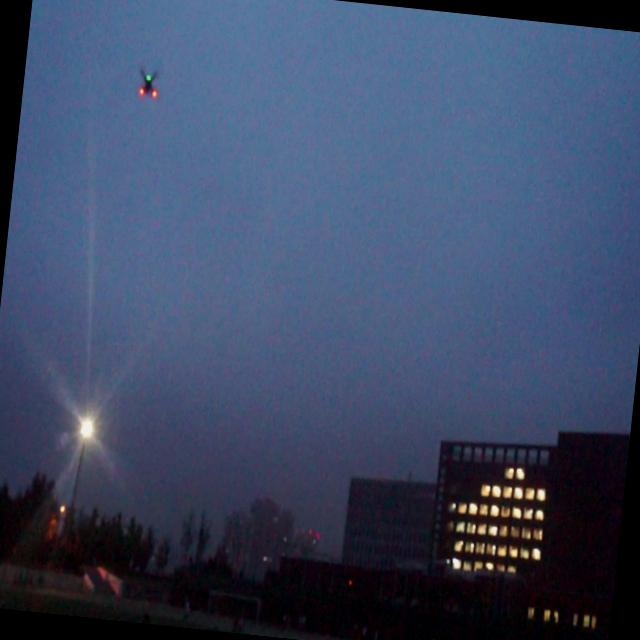drone: (135, 64, 161, 105)
